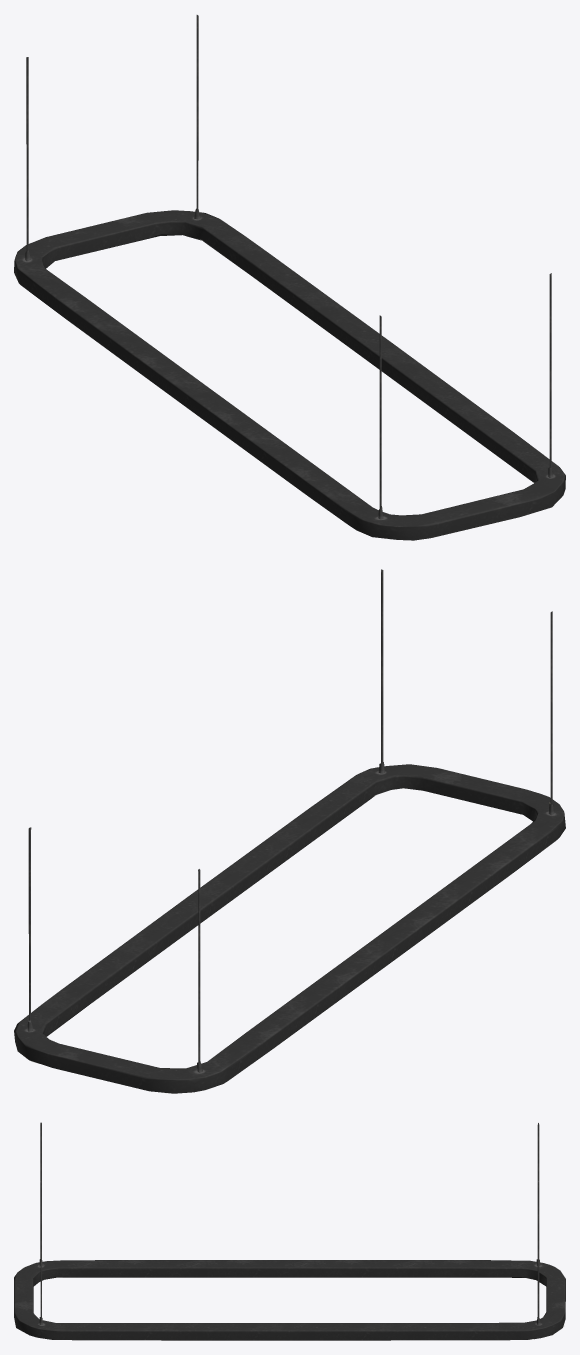
File: SM_Lamp03.fbx
3 views of the same model, one above another, from view 1: azimuth 30°, elevation 25°; view 2: azimuth 150°, elevation 25°; view 3: azimuth 270°, elevation 25° (orthographic). The views are drawn at different scales.
Visible parts, largest first — view 1: SM_Lamp03_LOD0; view 2: SM_Lamp03_LOD0; view 3: SM_Lamp03_LOD0.
Boxes of the visible parts, x1=… form: SM_Lamp03_LOD0: x1=14, y1=15, x2=565, y2=540; SM_Lamp03_LOD0: x1=14, y1=569, x2=565, y2=1093; SM_Lamp03_LOD0: x1=14, y1=1122, x2=565, y2=1340.
Size of the model in its own units: 148 by 485 by 149.
